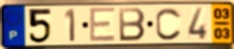1: (64, 8, 77, 44)
4: (186, 7, 209, 41)
5: (26, 7, 54, 45)
B: (117, 7, 147, 43)
C: (155, 7, 183, 42)
E: (88, 6, 118, 44)
